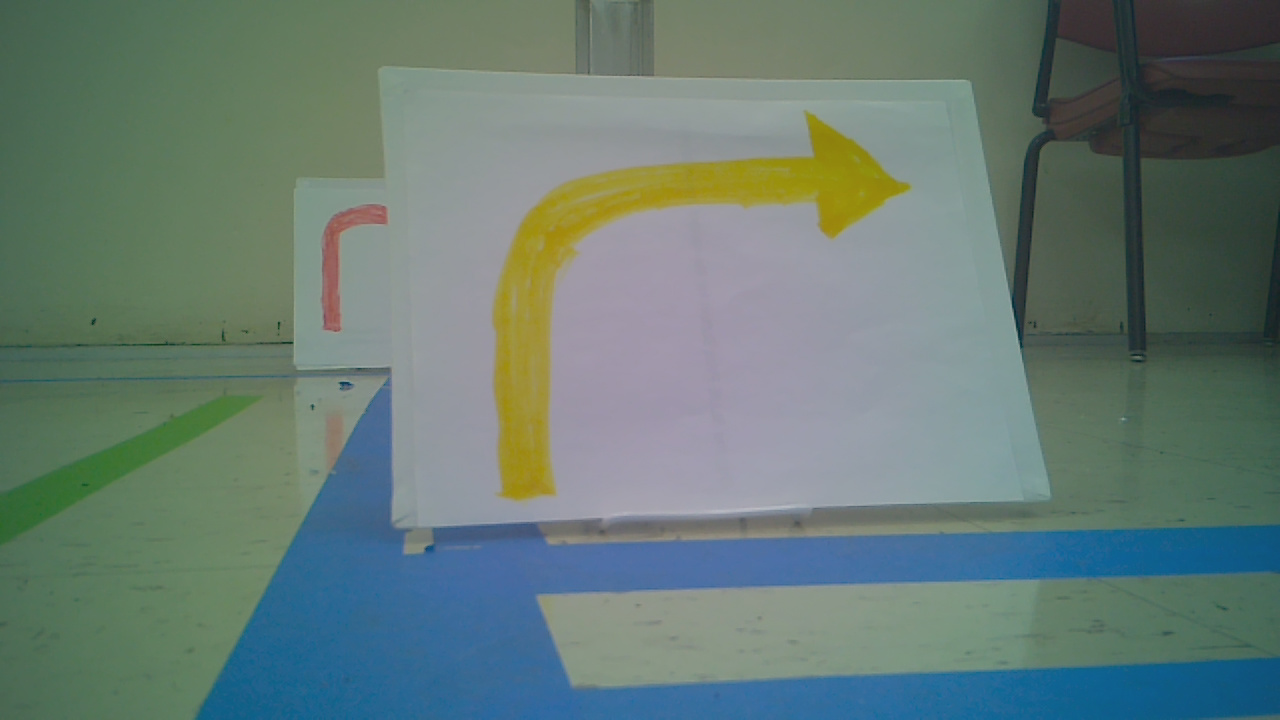greenline: (1, 393, 255, 543)
right: (489, 100, 908, 503)
